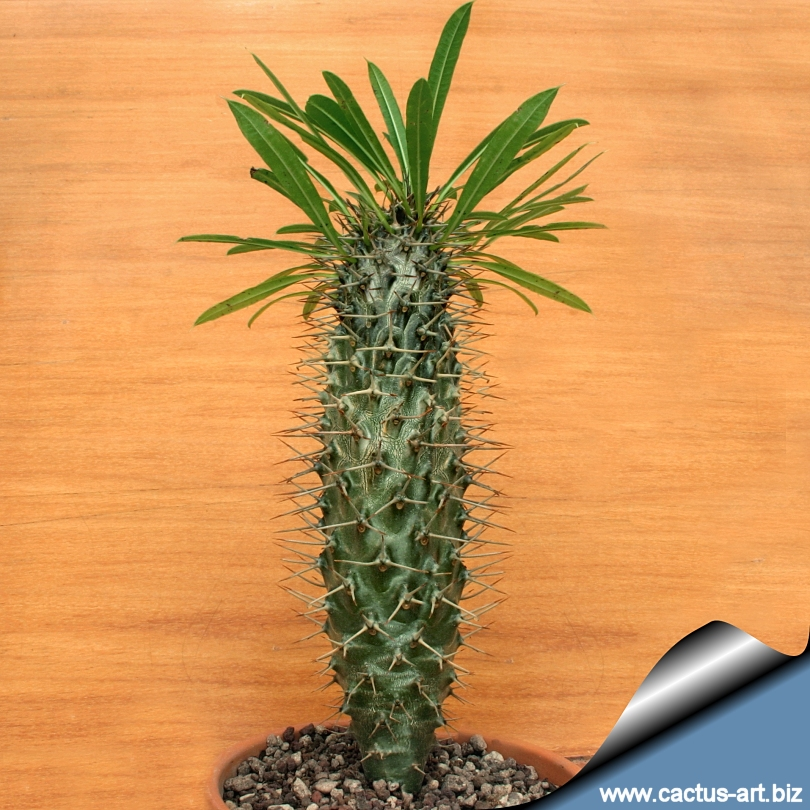Pachypodium lamerei Drake: (248, 73, 570, 782)
